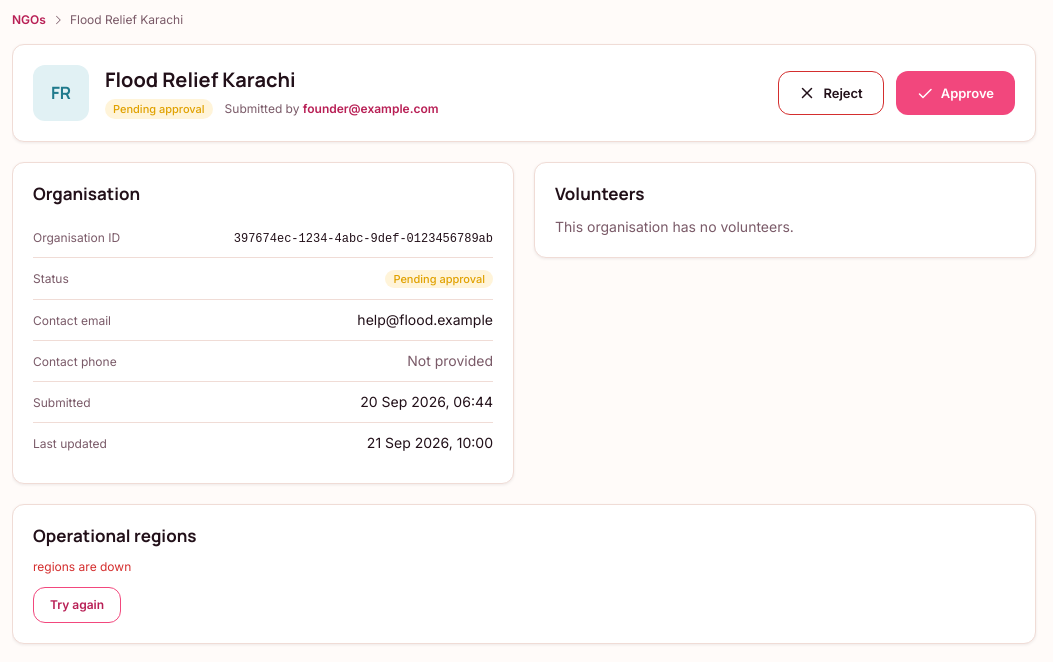
Test: NgoDetailPage — operational regions › a failed regions load stays in its card, the rest of the page is untouched, and it retries
Expected: the heading "Flood Relief Karachi" is shown, [105, 66, 296, 93]
Expected: the message reads "regions are down", [33, 559, 131, 574]
Click the button named "Try again" below "regions are down": (77, 605) [33, 587, 121, 623]
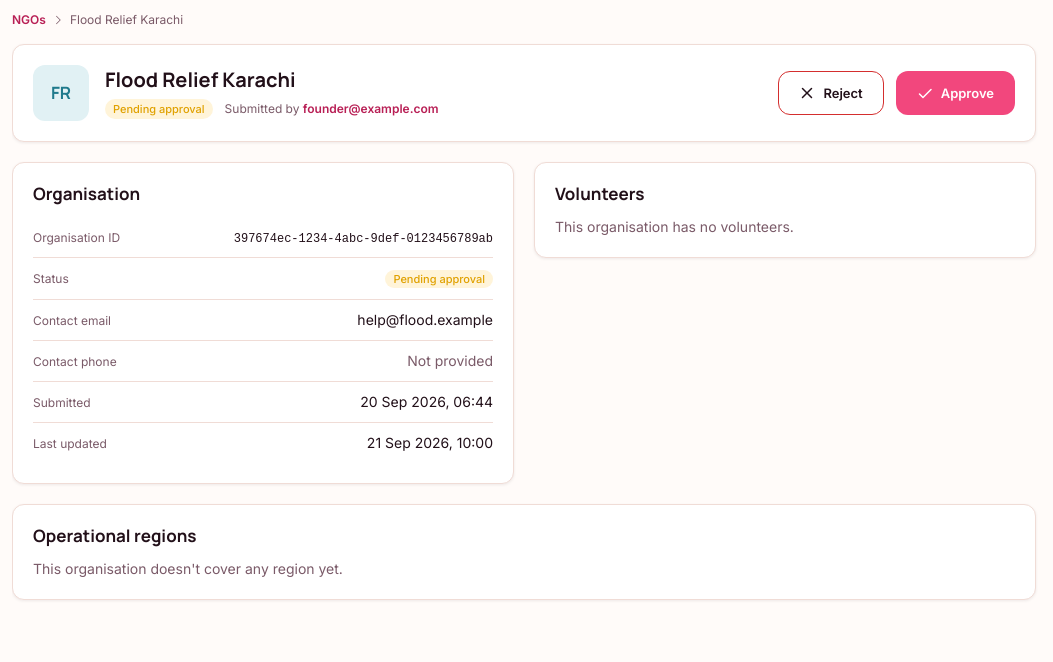
Expected: the text "This organisation doesn't cover any region yet." is shown, [33, 560, 343, 577]
